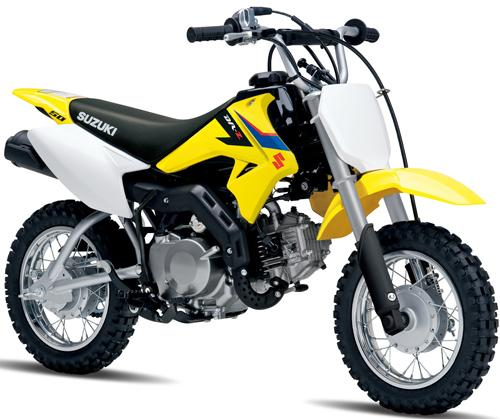motorbike: (5, 6, 500, 416)
